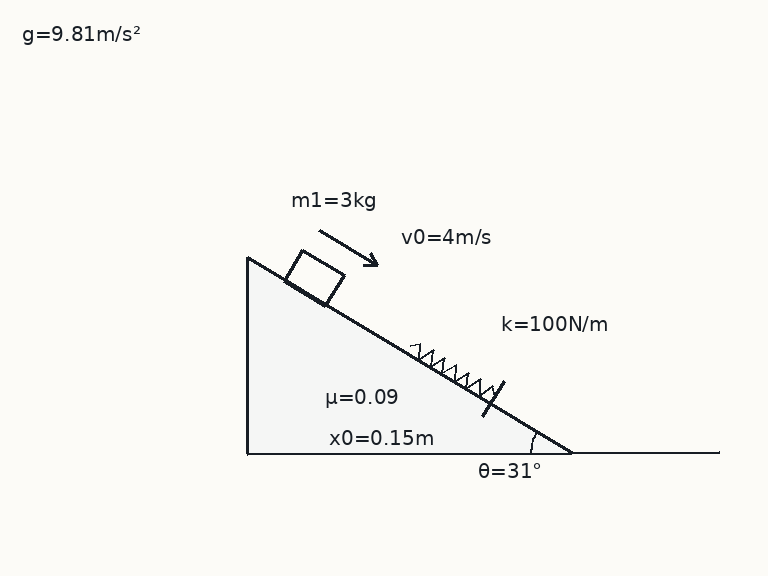block: (282, 248, 346, 307)
ramp: (245, 256, 573, 455)
spring: (408, 342, 497, 399)
